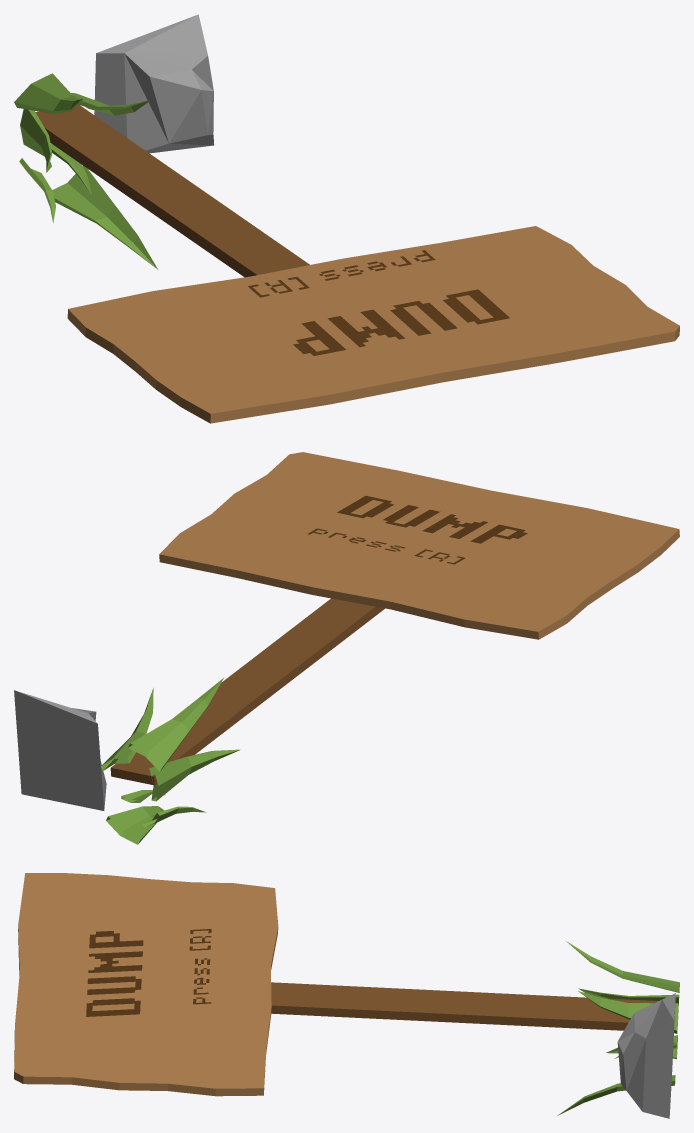
File: signMemo.obj
The picture shows the model from 3 angles, top to bottom: view 1: azimuth 30°, elevation 25°; view 2: azimuth 150°, elevation 25°; view 3: azimuth 270°, elevation 25°; orthographic projection. The views are drawn at different scales.
Visible parts, largest first — view 1: Sign11, Text.001, Text; view 2: Sign11, Text.001; view 3: Sign11, Text.001, Text.
Part boxes in pixels (x1,y1,x2,y2): Sign11: (14, 14, 679, 423); Text.001: (293, 289, 509, 355); Text: (248, 250, 435, 297); Sign11: (14, 452, 679, 844); Text.001: (337, 496, 527, 543); Sign11: (14, 873, 679, 1118); Text.001: (86, 931, 143, 1016); Text: (189, 929, 211, 1004).
Bounding box in the file's own units: 1.45 × 0.5304 × 2.16.
Materials: 5 (5 with a texture image).
